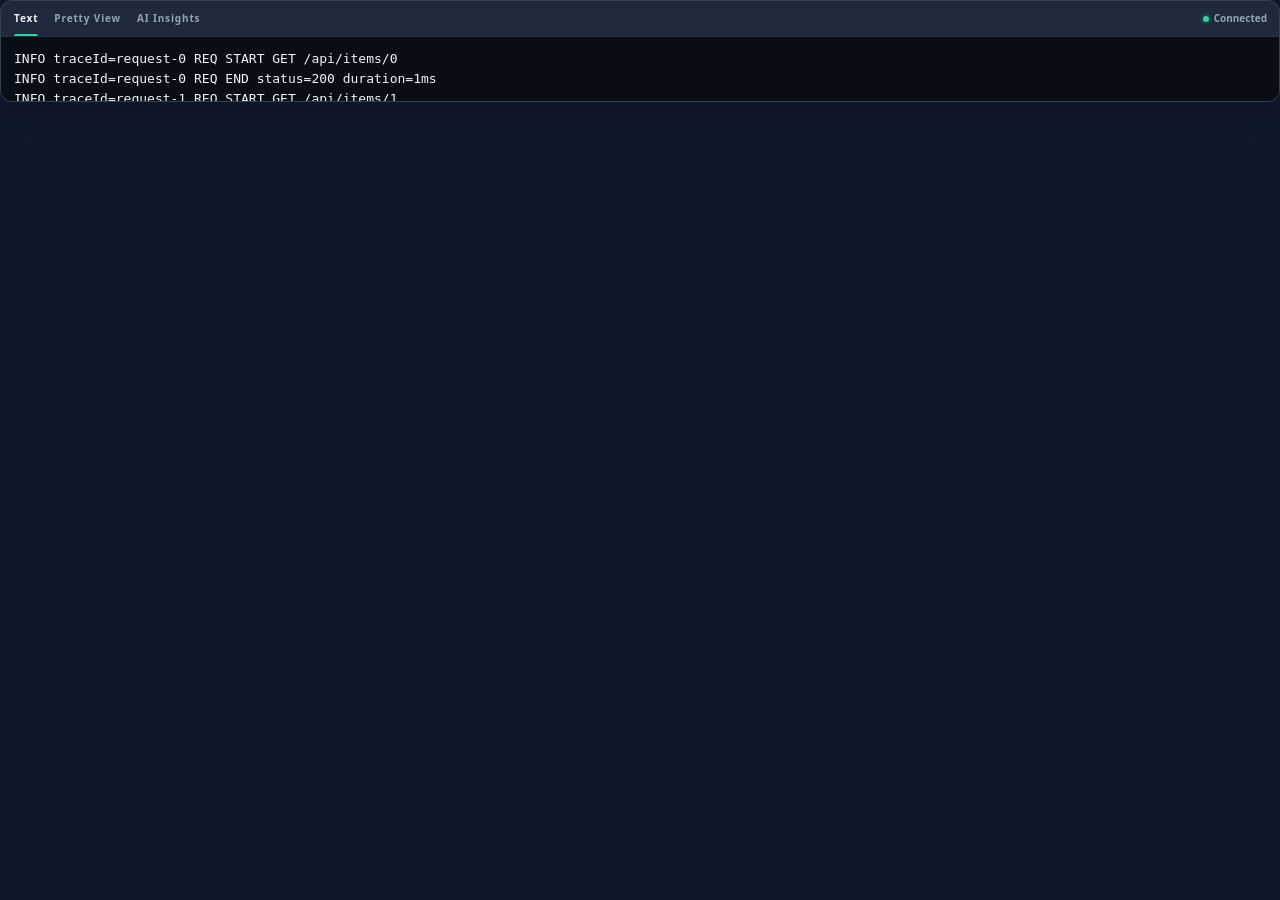
Pretty View API activity cards › keeps 100 activity cards available in a compact scrollable list
Click the tab "Pretty View": (88, 18) [47,1,128,36]
(page scrolled)
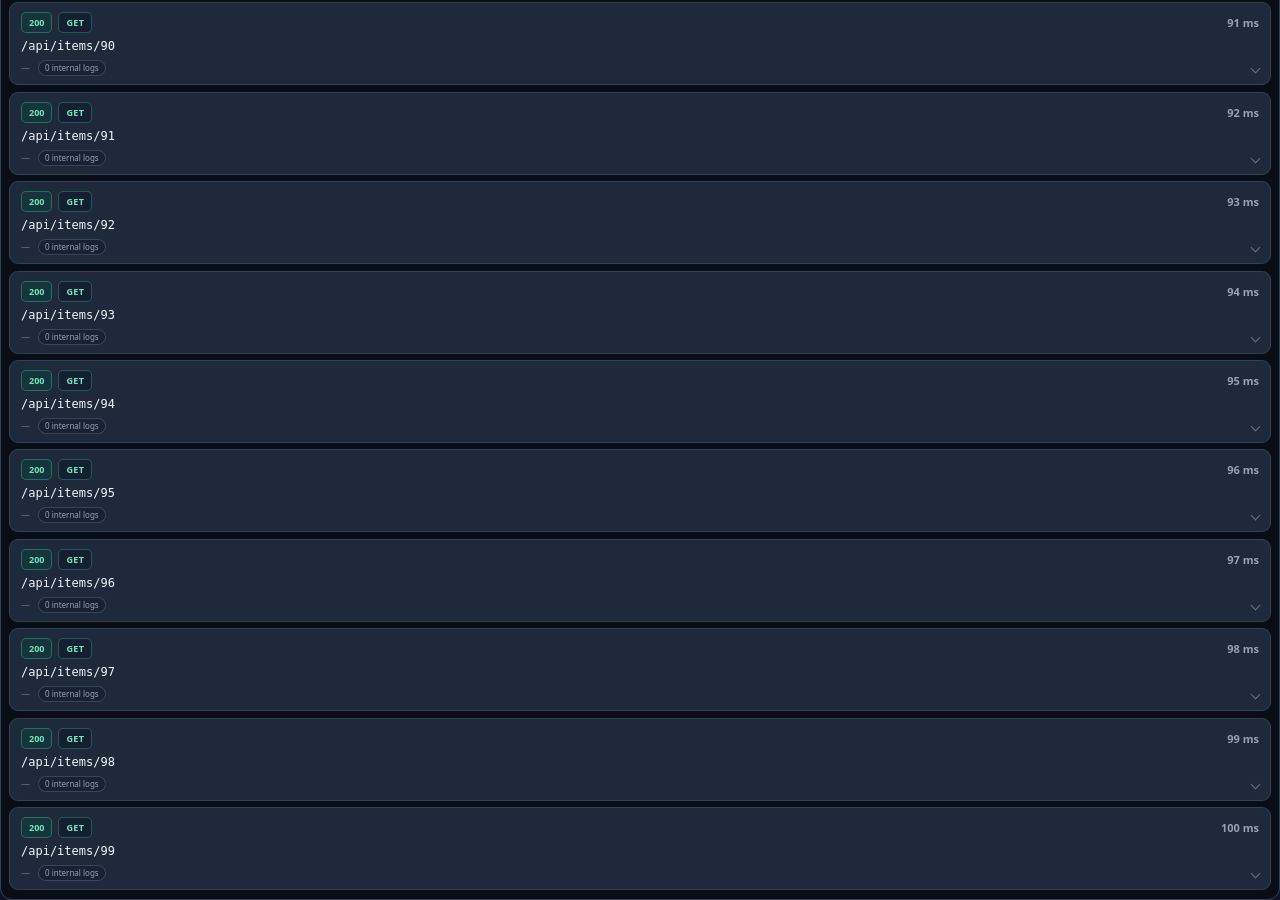
Result: the text "/api/items/99" is shown at [21,844,115,858]
